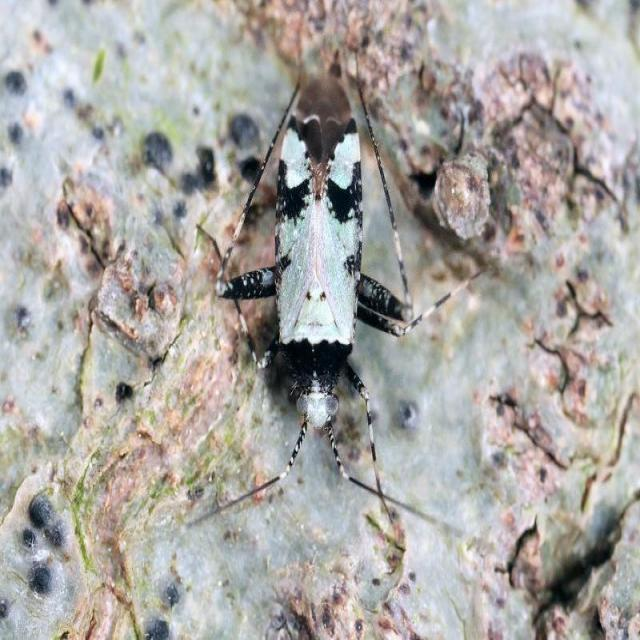Miridae-Adult-: (167, 44, 473, 538)
